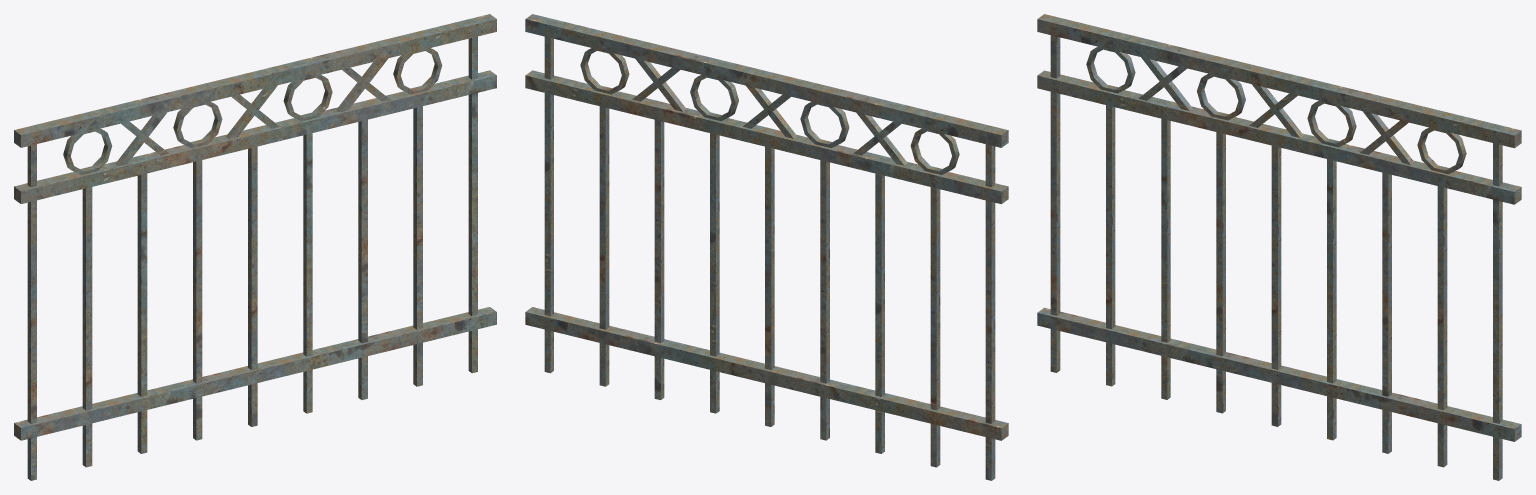
The model's file is fence04.FBX.
3 renders of one model, left to right at view 1: azimuth 30°, elevation 25°; view 2: azimuth 150°, elevation 25°; view 3: azimuth 330°, elevation 25°, orthographic.
Parts seen in each view (by area): view 1: metal_fence_small_ring_cross; view 2: metal_fence_small_ring_cross; view 3: metal_fence_small_ring_cross.
Part boxes in pixels (<box>): metal_fence_small_ring_cross: <box>14,14,496,480</box>; metal_fence_small_ring_cross: <box>525,14,1008,480</box>; metal_fence_small_ring_cross: <box>1037,14,1521,480</box>.
Bounding box in the file's own units: 247 × 173 × 6.31.
